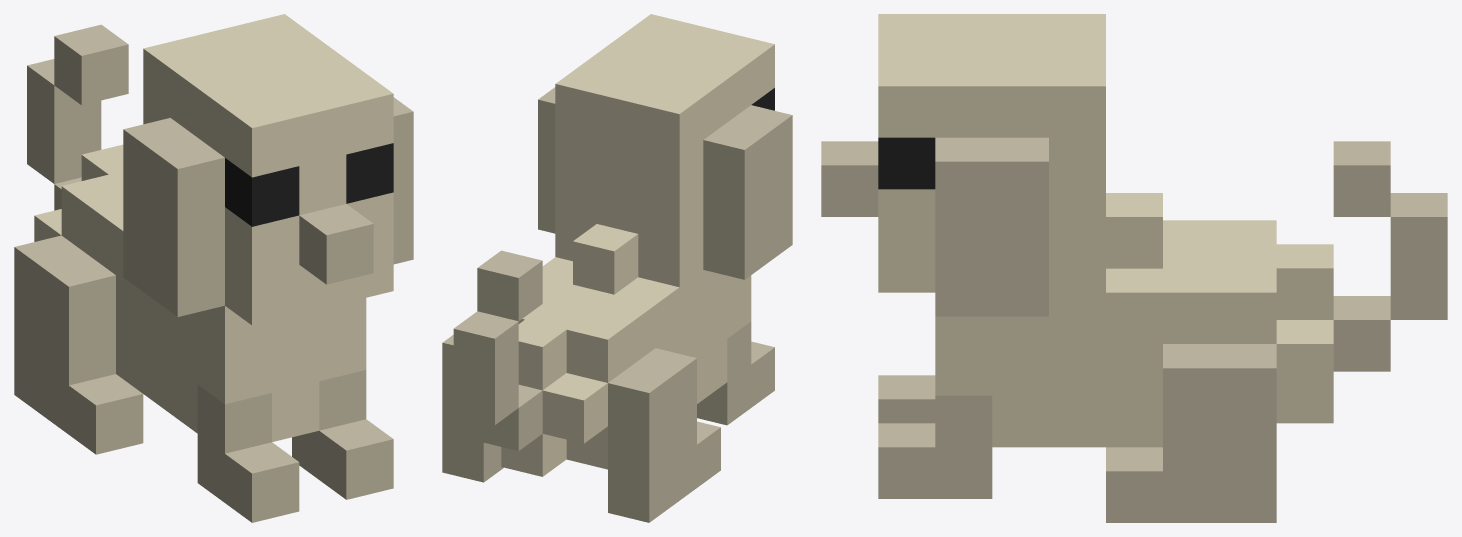
File: Animal_Dog_03.glb
The picture shows the model from 3 angles, left to right: view 1: azimuth 30°, elevation 25°; view 2: azimuth 150°, elevation 25°; view 3: azimuth 270°, elevation 25°; orthographic projection. The views are drawn at different scales.
Visible parts, largest first — view 1: Animal_Dog_03; view 2: Animal_Dog_03; view 3: Animal_Dog_03.
Part boxes in pixels (left/top/right/bottom): Animal_Dog_03: left=14, top=14, right=413, bottom=522; Animal_Dog_03: left=442, top=14, right=792, bottom=522; Animal_Dog_03: left=821, top=14, right=1447, bottom=522.
Bounding box in the file's own units: 0.5 × 0.8 × 1.1.
1 material, 1 textured.
